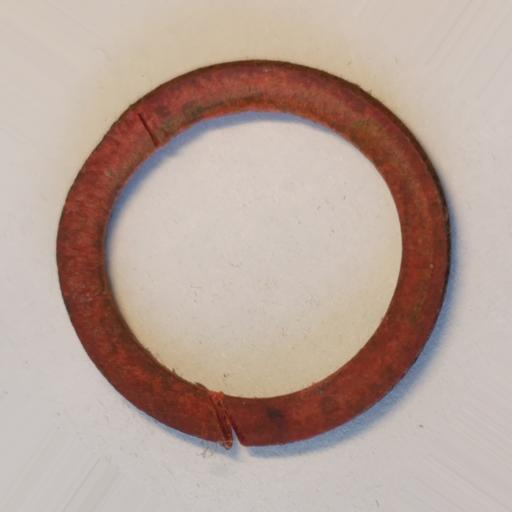defect: (202, 385, 246, 451), (126, 105, 164, 152)
